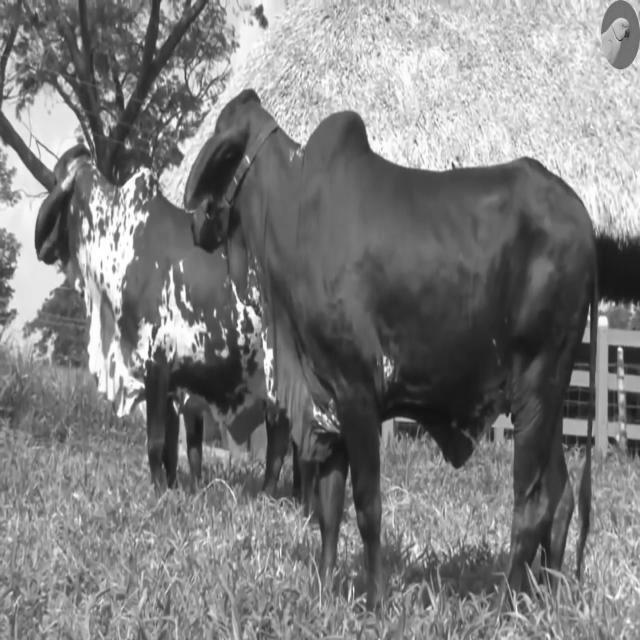cow: (185, 90, 596, 610), (36, 145, 266, 487)
